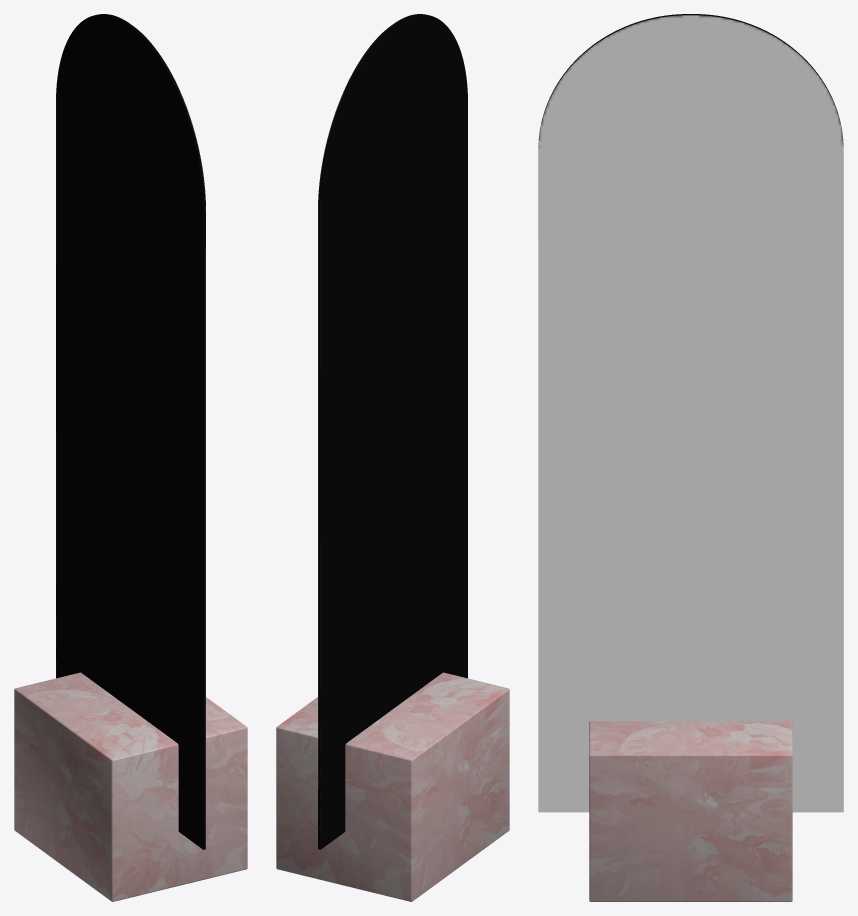
File: Espejo.fbx
The picture shows the model from 3 angles, left to right: view 1: azimuth 30°, elevation 25°; view 2: azimuth 150°, elevation 25°; view 3: azimuth 270°, elevation 25°; orthographic projection. The views are drawn at different scales.
Parts seen in each view (by area): view 1: Cube.002; view 2: Cube.002; view 3: Cube.002.
Part boxes in pixels (x1=…): Cube.002: x1=14, y1=14, x2=247, y2=901; Cube.002: x1=276, y1=14, x2=509, y2=901; Cube.002: x1=538, y1=14, x2=843, y2=901.
Size of the model in its own units: 32 by 185 by 60.
1 material, 1 textured.
